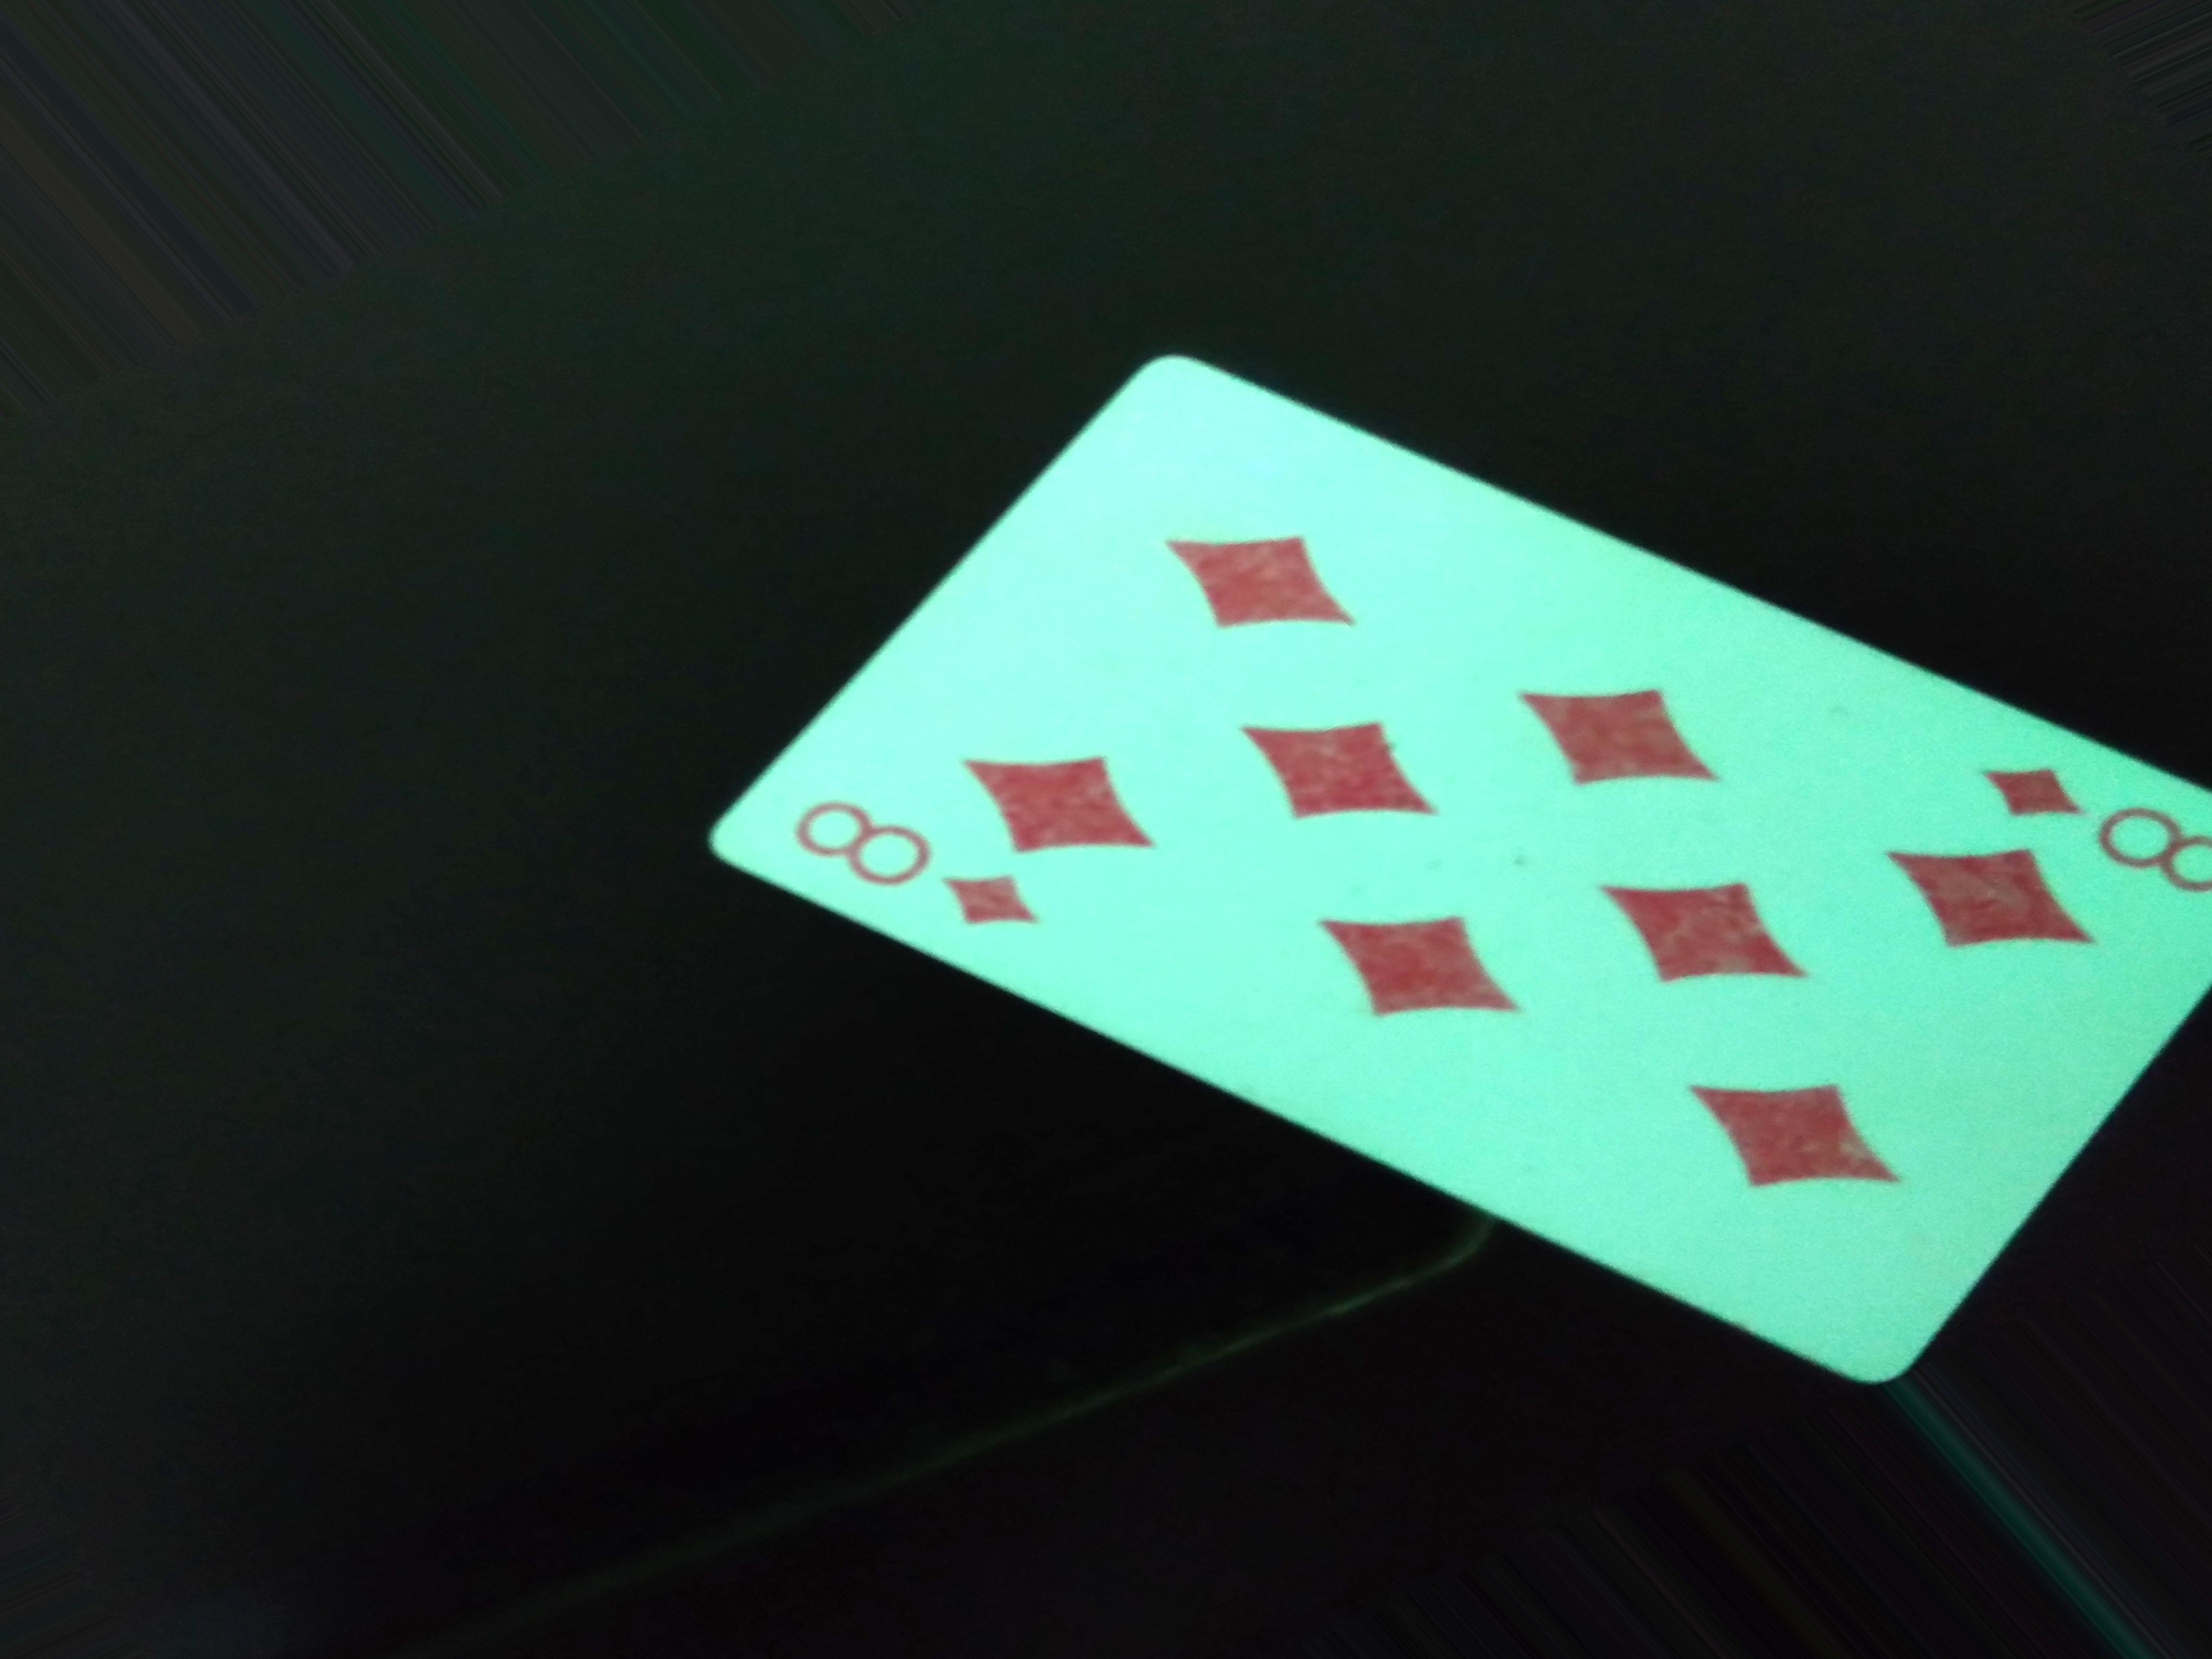8D: (777, 793, 1089, 986)
